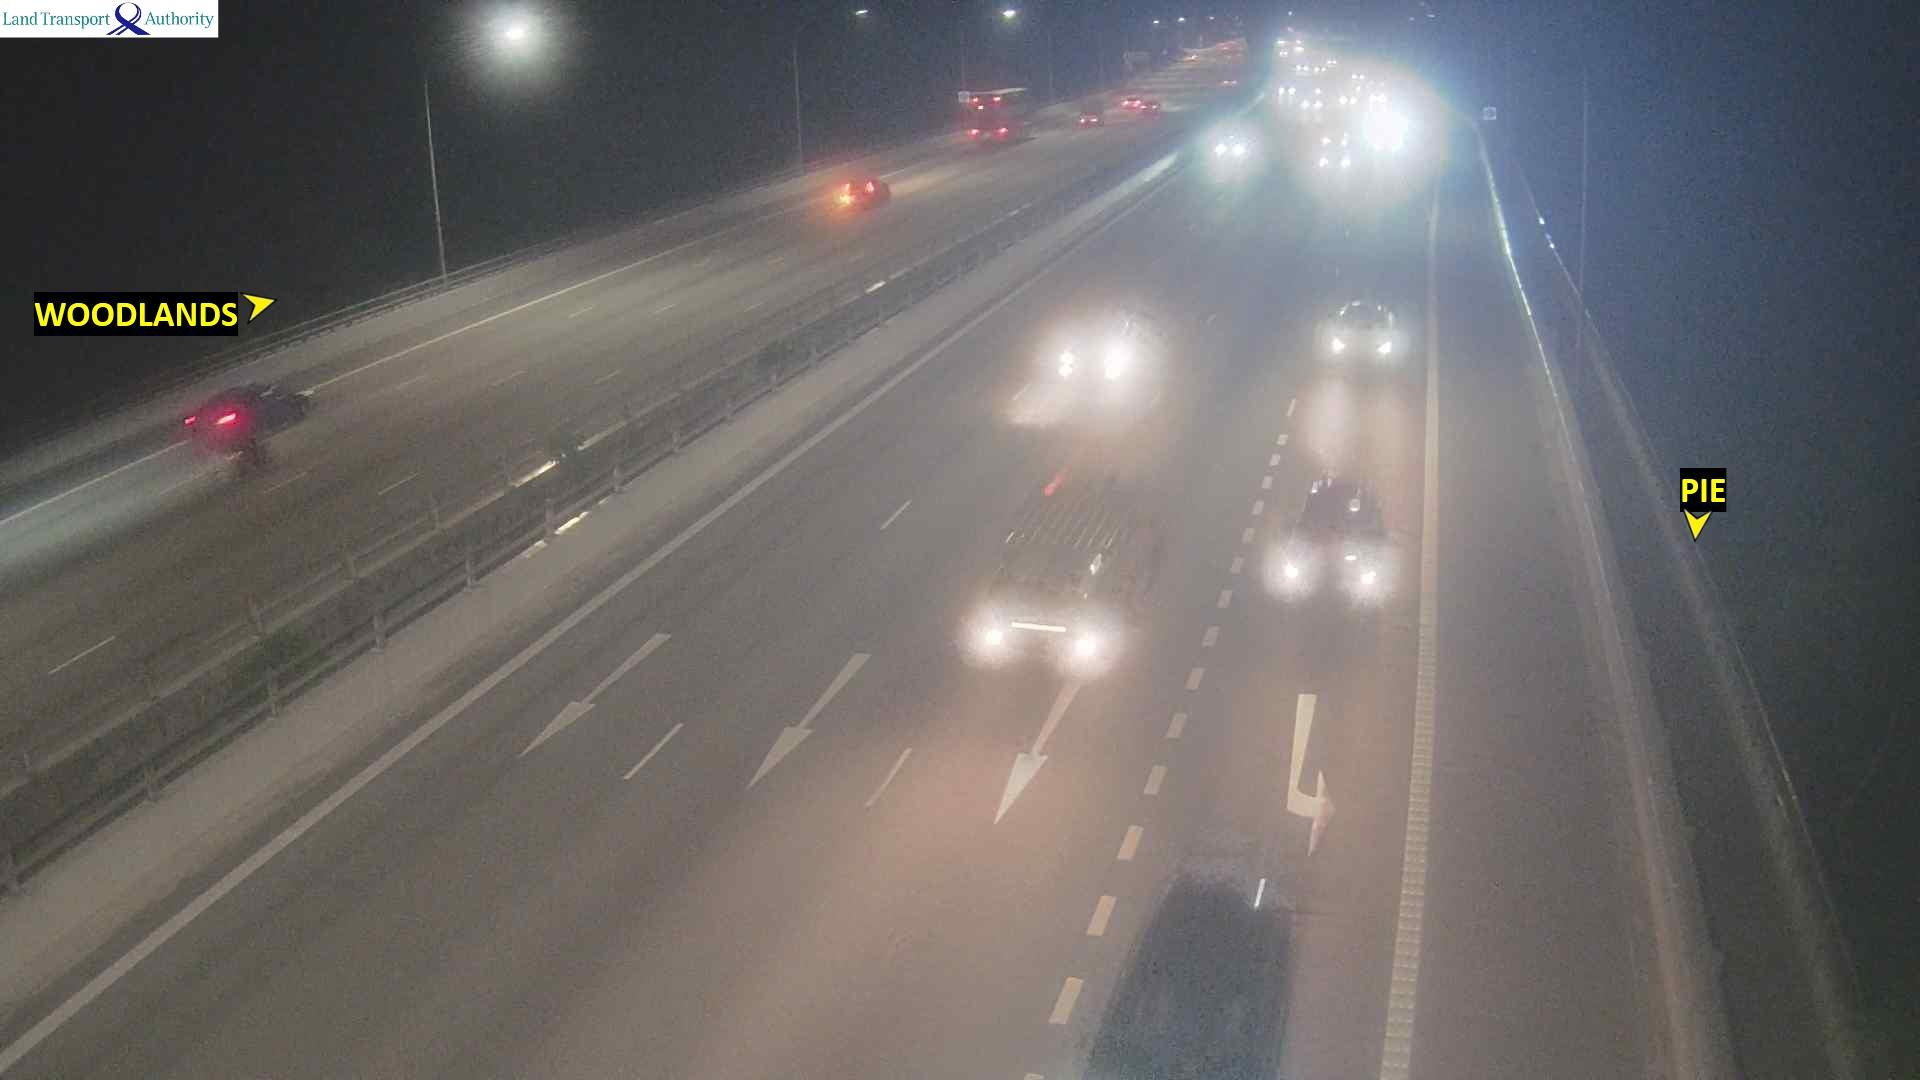incoming: (973, 524, 1120, 699), (1263, 501, 1396, 630), (1328, 310, 1407, 377)
